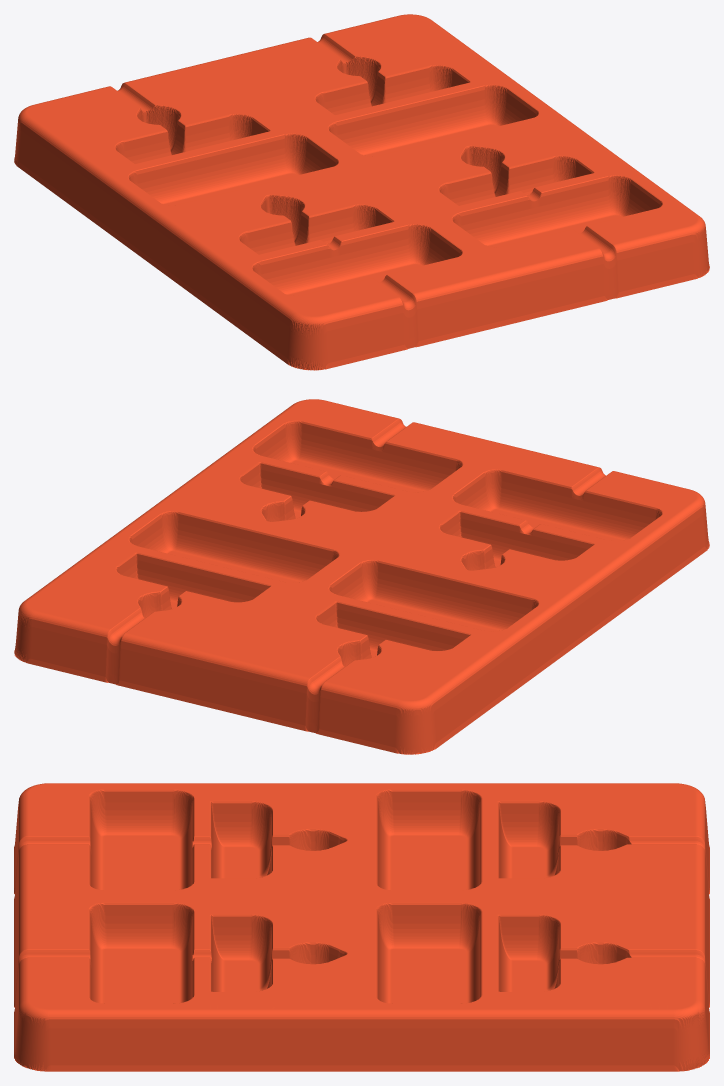
File: mold.glb
3 renders of one model, top to bottom at view 1: azimuth 30°, elevation 25°; view 2: azimuth 150°, elevation 25°; view 3: azimuth 270°, elevation 25°, orthographic. The views are drawn at different scales.
Visible parts, largest first — view 1: geometry_0; view 2: geometry_0; view 3: geometry_0.
Boxes of the visible parts, bbox=[...] form: geometry_0: bbox=[14, 14, 709, 370]; geometry_0: bbox=[14, 399, 709, 754]; geometry_0: bbox=[14, 783, 709, 1071].
Bounding box in the file's own units: 0.14 × 0.0155 × 0.1735.
